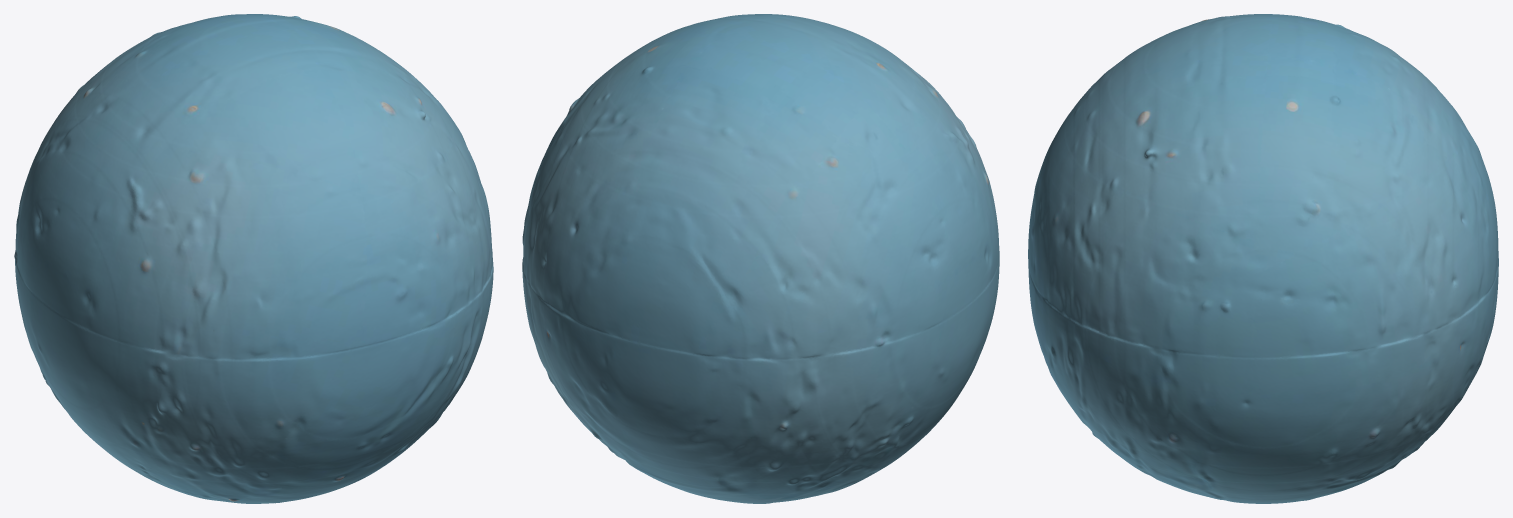
File: detailed_realistic_model_crystalball_20.glb
3 renders of one model, left to right at view 1: azimuth 30°, elevation 25°; view 2: azimuth 150°, elevation 25°; view 3: azimuth 270°, elevation 25°, orthographic.
Parts seen in each view (by area): view 1: tripo_node_9933dc9b-14b8-4ffc-8d62-887a29499c48; view 2: tripo_node_9933dc9b-14b8-4ffc-8d62-887a29499c48; view 3: tripo_node_9933dc9b-14b8-4ffc-8d62-887a29499c48.
Boxes of the visible parts, x1,y1,x2,y2 form: tripo_node_9933dc9b-14b8-4ffc-8d62-887a29499c48: (14, 14, 493, 503); tripo_node_9933dc9b-14b8-4ffc-8d62-887a29499c48: (522, 14, 999, 503); tripo_node_9933dc9b-14b8-4ffc-8d62-887a29499c48: (1028, 14, 1498, 503).
Size of the model in its own units: 0.9605 by 1 by 0.9601.
1 material, 1 textured.
